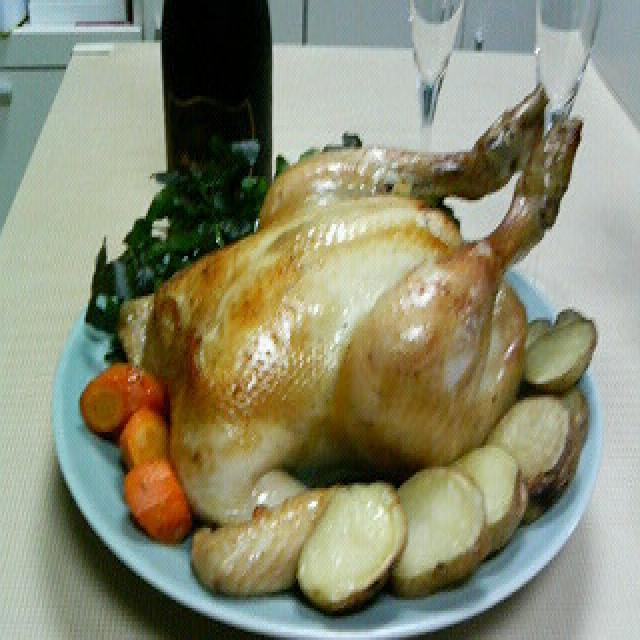Chicken: (112, 123, 528, 496)
